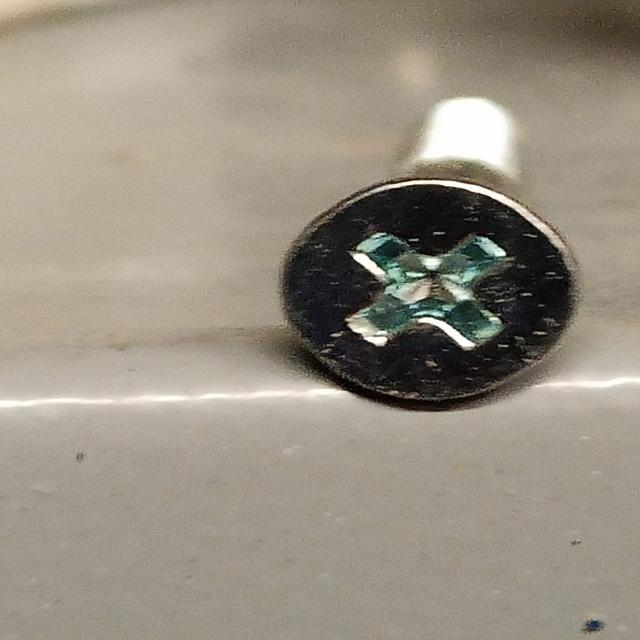phillips: (282, 179, 579, 404)
